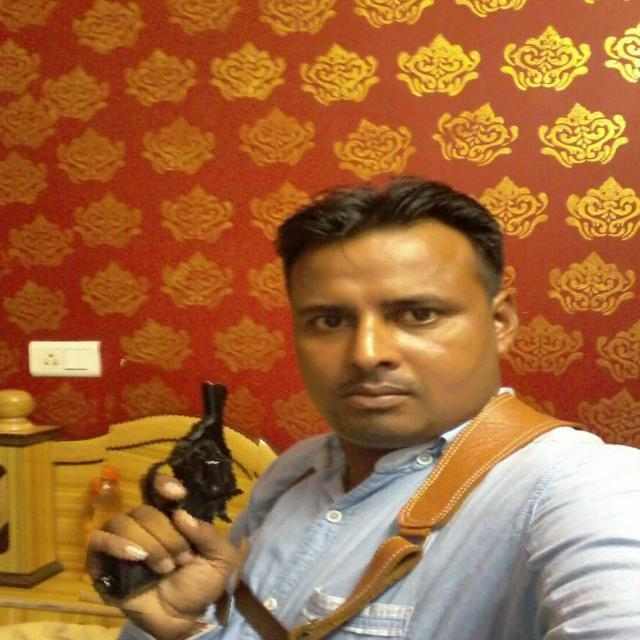handgun: (88, 364, 259, 622)
